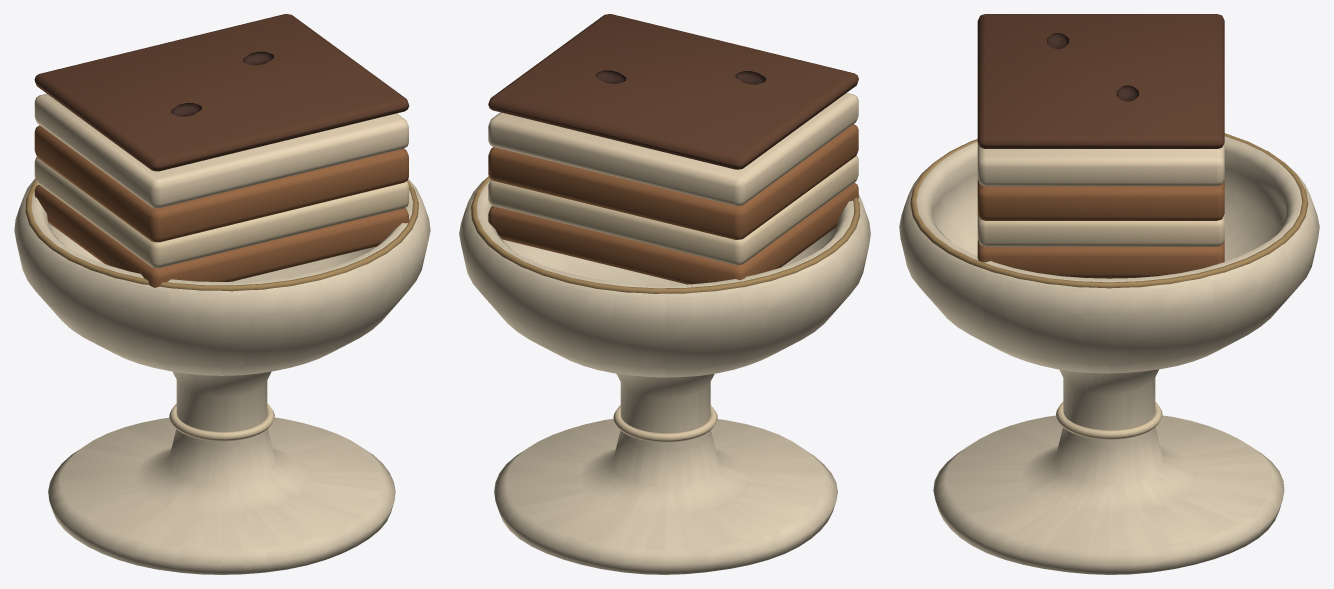
The model's file is tiramisu.glb.
3 renders of one model, left to right at view 1: azimuth 30°, elevation 25°; view 2: azimuth 150°, elevation 25°; view 3: azimuth 270°, elevation 25°, orthographic. The views are drawn at different scales.
Visible parts, largest first — view 1: Shared_warm_ivory_ceramic_goblet, Tiramisu_cocoa_dusted_top, Tiramisu_mascarpone_upper, Tiramisu_coffee_sponge_middle, Tiramisu_coffee_sponge_bottom, Tiramisu_mascarpone_lower, Shared_thin_antique_brass_lip, Shared_stem_warm_cream_band; view 2: Shared_warm_ivory_ceramic_goblet, Tiramisu_cocoa_dusted_top, Tiramisu_mascarpone_upper, Tiramisu_coffee_sponge_middle, Tiramisu_coffee_sponge_bottom, Tiramisu_mascarpone_lower, Shared_thin_antique_brass_lip, Shared_stem_warm_cream_band; view 3: Shared_warm_ivory_ceramic_goblet, Tiramisu_cocoa_dusted_top, Tiramisu_mascarpone_upper, Tiramisu_coffee_sponge_middle, Tiramisu_coffee_sponge_bottom, Tiramisu_mascarpone_lower, Shared_thin_antique_brass_lip, Shared_stem_warm_cream_band.
Boxes of the visible parts, x1=… form: Shared_warm_ivory_ceramic_goblet: x1=14, y1=178, x2=430, y2=574; Tiramisu_cocoa_dusted_top: x1=34, y1=14, x2=409, y2=171; Tiramisu_mascarpone_upper: x1=34, y1=93, x2=408, y2=208; Tiramisu_coffee_sponge_middle: x1=34, y1=125, x2=408, y2=242; Tiramisu_coffee_sponge_bottom: x1=34, y1=185, x2=408, y2=287; Tiramisu_mascarpone_lower: x1=34, y1=157, x2=408, y2=267; Shared_thin_antique_brass_lip: x1=25, y1=180, x2=418, y2=291; Shared_stem_warm_cream_band: x1=169, y1=403, x2=274, y2=441; Shared_warm_ivory_ceramic_goblet: x1=459, y1=179, x2=870, y2=574; Tiramisu_cocoa_dusted_top: x1=488, y1=14, x2=858, y2=169; Tiramisu_mascarpone_upper: x1=488, y1=93, x2=858, y2=205; Tiramisu_coffee_sponge_middle: x1=488, y1=124, x2=858, y2=239; Tiramisu_coffee_sponge_bottom: x1=488, y1=183, x2=858, y2=284; Tiramisu_mascarpone_lower: x1=488, y1=155, x2=858, y2=265; Shared_thin_antique_brass_lip: x1=471, y1=176, x2=860, y2=293; Shared_stem_warm_cream_band: x1=613, y1=405, x2=717, y2=442; Shared_warm_ivory_ceramic_goblet: x1=899, y1=136, x2=1319, y2=574; Tiramisu_cocoa_dusted_top: x1=977, y1=14, x2=1224, y2=148; Tiramisu_mascarpone_upper: x1=977, y1=142, x2=1224, y2=186; Tiramisu_coffee_sponge_middle: x1=977, y1=179, x2=1224, y2=220; Tiramisu_coffee_sponge_bottom: x1=977, y1=240, x2=1224, y2=278; Tiramisu_mascarpone_lower: x1=977, y1=214, x2=1224, y2=246; Shared_thin_antique_brass_lip: x1=910, y1=133, x2=1308, y2=288; Shared_stem_warm_cream_band: x1=1056, y1=402, x2=1162, y2=439.
Bounding box in the file's own units: 0.788 × 0.918 × 0.788.
